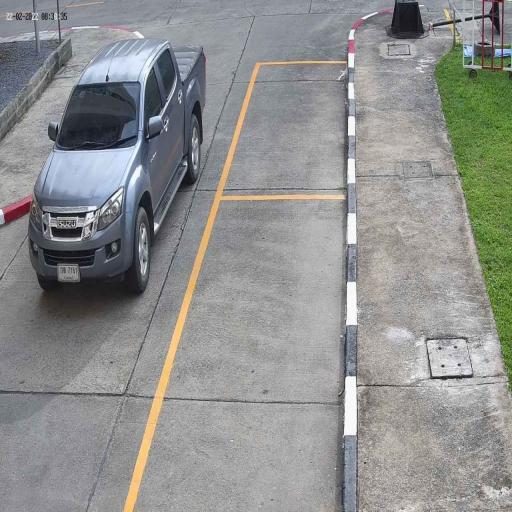car: (27, 36, 207, 296)
